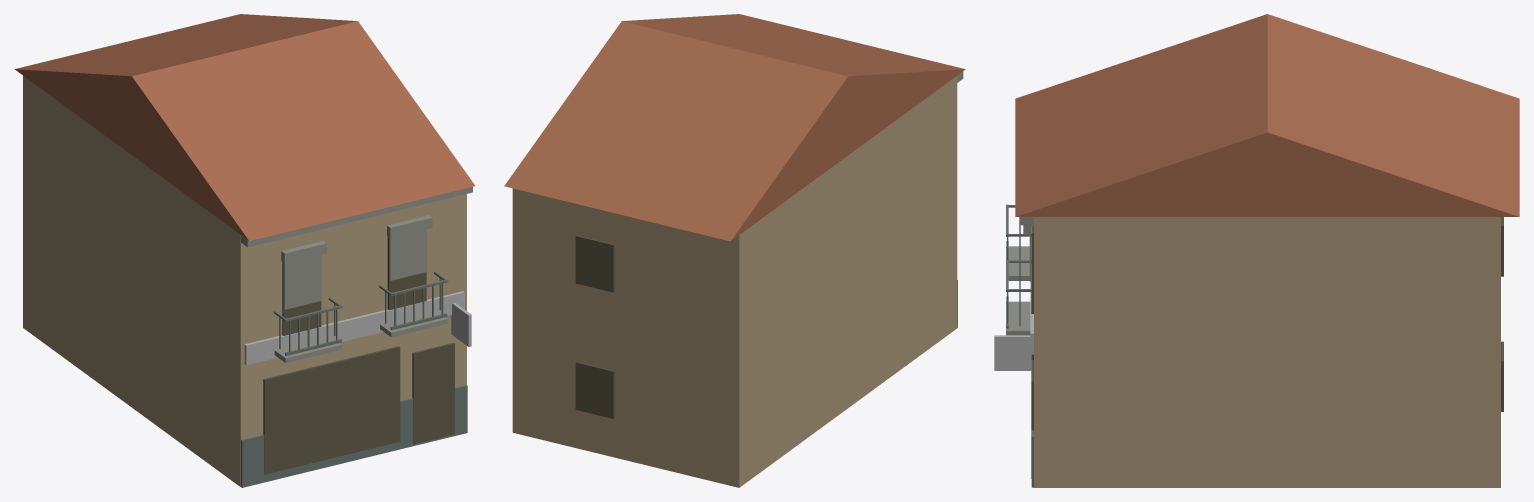
File: SM_BajoComercial_v2_Farmacia_LOD0.fbx
3 views of the same model, side by side, from view 1: azimuth 30°, elevation 25°; view 2: azimuth 150°, elevation 25°; view 3: azimuth 270°, elevation 25° (orthographic). The views are drawn at different scales.
Parts seen in each view (by area): view 1: SM_pueblo_valenciano_v7_LOD0; view 2: SM_pueblo_valenciano_v7_LOD0; view 3: SM_pueblo_valenciano_v7_LOD0.
Part boxes in pixels (x1,y1,x2,y2): SM_pueblo_valenciano_v7_LOD0: (14, 14, 475, 487); SM_pueblo_valenciano_v7_LOD0: (504, 14, 965, 487); SM_pueblo_valenciano_v7_LOD0: (994, 14, 1519, 487).
Bounding box in the file's own units: 6 × 8.4 × 11.25.
